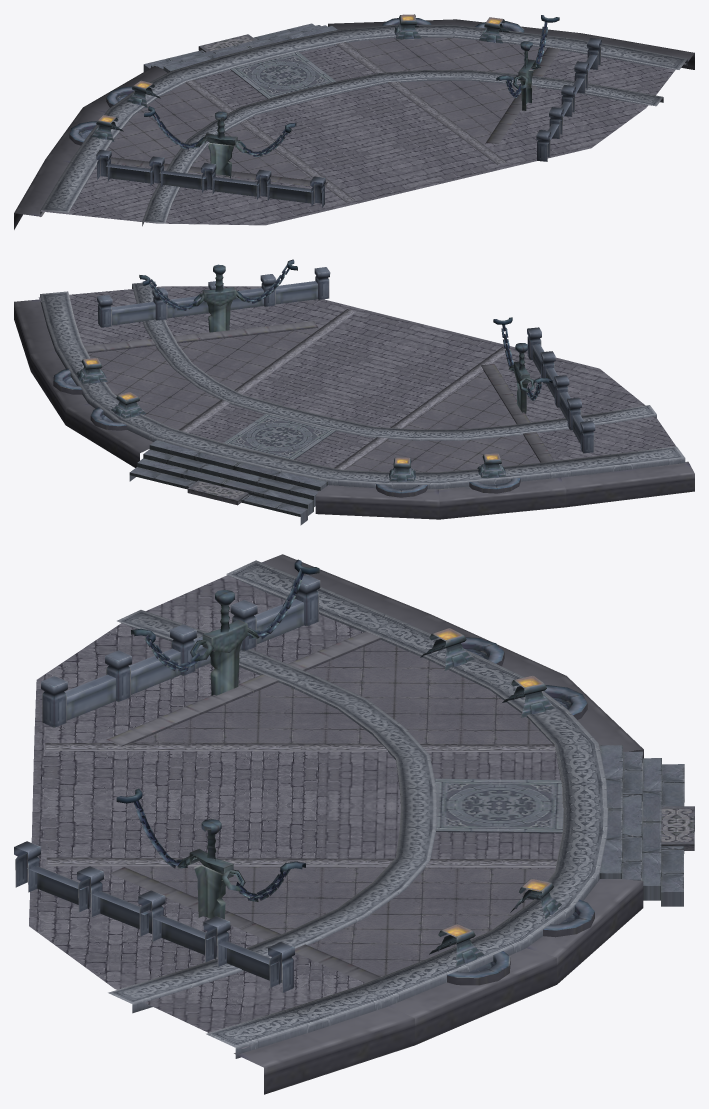
File: combat_01_blueplace.FBX
3 views of the same model, one above another, from view 1: azimuth 30°, elevation 25°; view 2: azimuth 150°, elevation 25°; view 3: azimuth 270°, elevation 25° (orthographic). The views are drawn at different scales.
Parts seen in each view (by area): view 1: bluediban, f019, f1020, bluezhalan, f19545454, f1902, f1, bluehuadiban, bluelouti, bluezhalan2, bluejian1, f2 (+9 smaller); view 2: bluediban, f1, bluelouti, f1020, f019, f2, bluezhalan2, f1902, f19545454, bluehuadiban, bluezhalan, bluejian2 (+9 smaller); view 3: bluediban, f2, f019, bluelouti, f1020, bluezhalan2, bluezhalan, f19545454, f1902, bluehuadiban, f1, bluejian1 (+9 smaller).
Boxes of the visible parts, x1,y1,x2,y2 form: bluediban: [40, 37, 675, 225]; f019: [253, 24, 687, 69]; f1020: [40, 48, 267, 216]; bluezhalan: [96, 149, 325, 207]; f19545454: [308, 70, 663, 106]; f1902: [142, 88, 319, 226]; f1: [14, 66, 166, 229]; bluehuadiban: [230, 52, 335, 98]; bluelouti: [143, 23, 337, 72]; bluezhalan2: [536, 38, 601, 161]; bluejian1: [144, 106, 296, 178]; f2: [328, 19, 694, 69]; bluediban: [38, 286, 684, 472]; f1: [315, 461, 694, 519]; bluelouti: [129, 440, 327, 525]; f1020: [239, 446, 685, 489]; f019: [40, 291, 253, 462]; f2: [14, 299, 153, 467]; bluezhalan2: [97, 267, 330, 327]; f1902: [295, 405, 656, 440]; f19545454: [132, 281, 306, 420]; bluehuadiban: [224, 414, 336, 459]; bluezhalan: [527, 327, 595, 453]; bluejian2: [139, 259, 297, 332]; bluediban: [29, 575, 562, 1048]; f2: [234, 879, 643, 1094]; f019: [206, 808, 608, 1058]; bluelouti: [599, 745, 694, 906]; f1020: [226, 560, 607, 807]; bluezhalan2: [14, 841, 294, 992]; bluezhalan: [41, 575, 320, 727]; f19545454: [108, 808, 436, 1013]; f1902: [117, 610, 436, 807]; bluehuadiban: [434, 778, 563, 833]; f1: [261, 554, 643, 758]; bluejian1: [131, 559, 319, 695].
Size of the model in its own units: 101 by 12.36 by 56.48.
